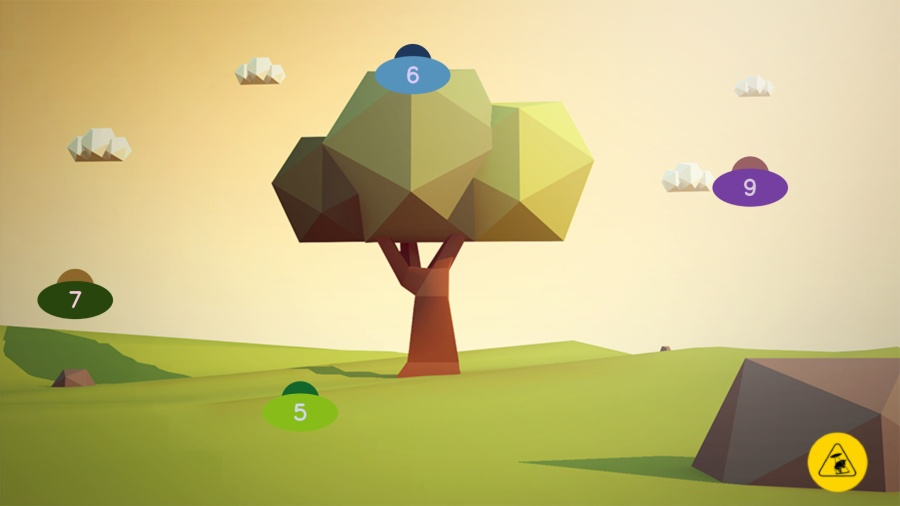ufo: (711, 155, 789, 208), (36, 268, 114, 320), (375, 43, 451, 95), (264, 380, 336, 429)
